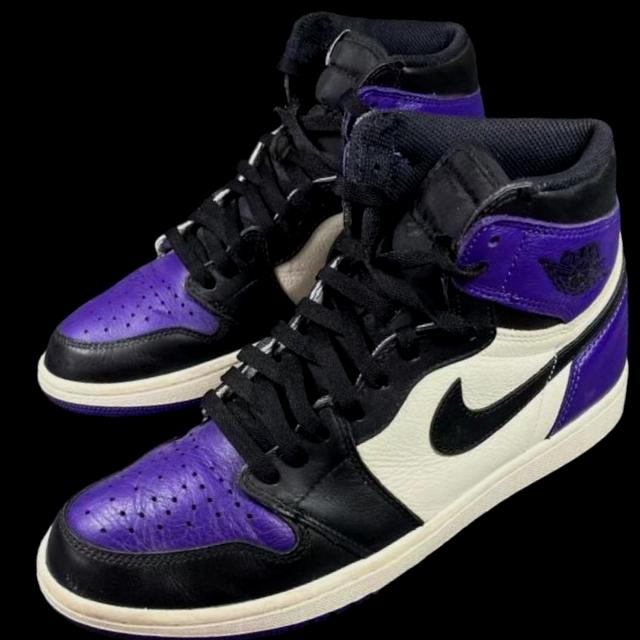nike_original_jordan: (0, 70, 640, 640), (0, 0, 527, 435)
